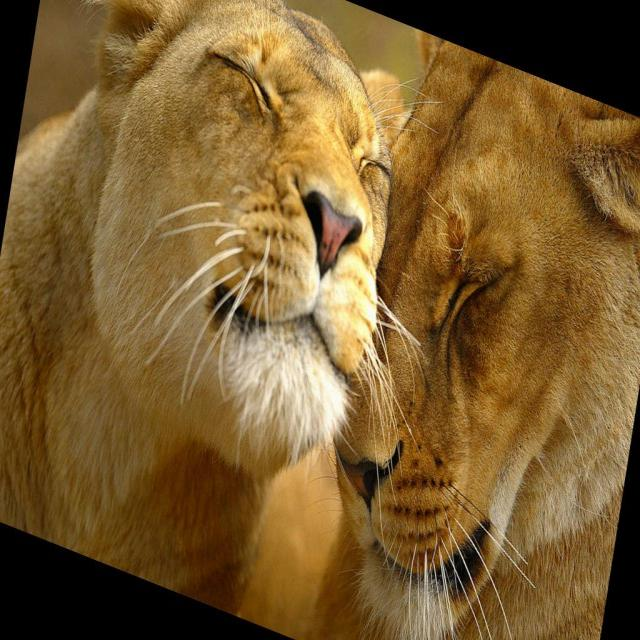Lion: (0, 0, 484, 639), (283, 14, 639, 639)
